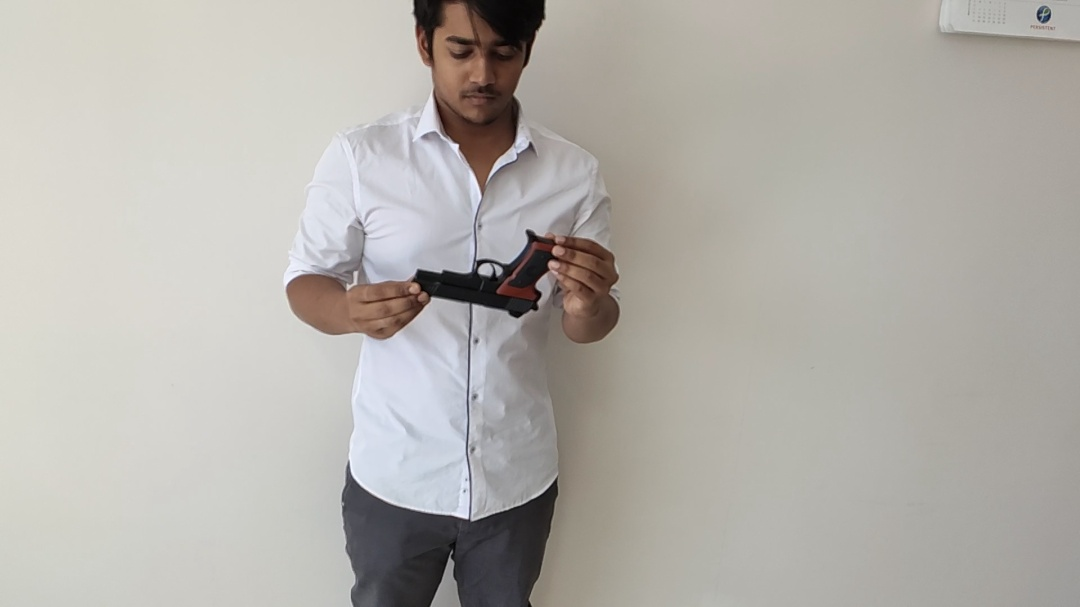gun: (412, 230, 561, 319)
